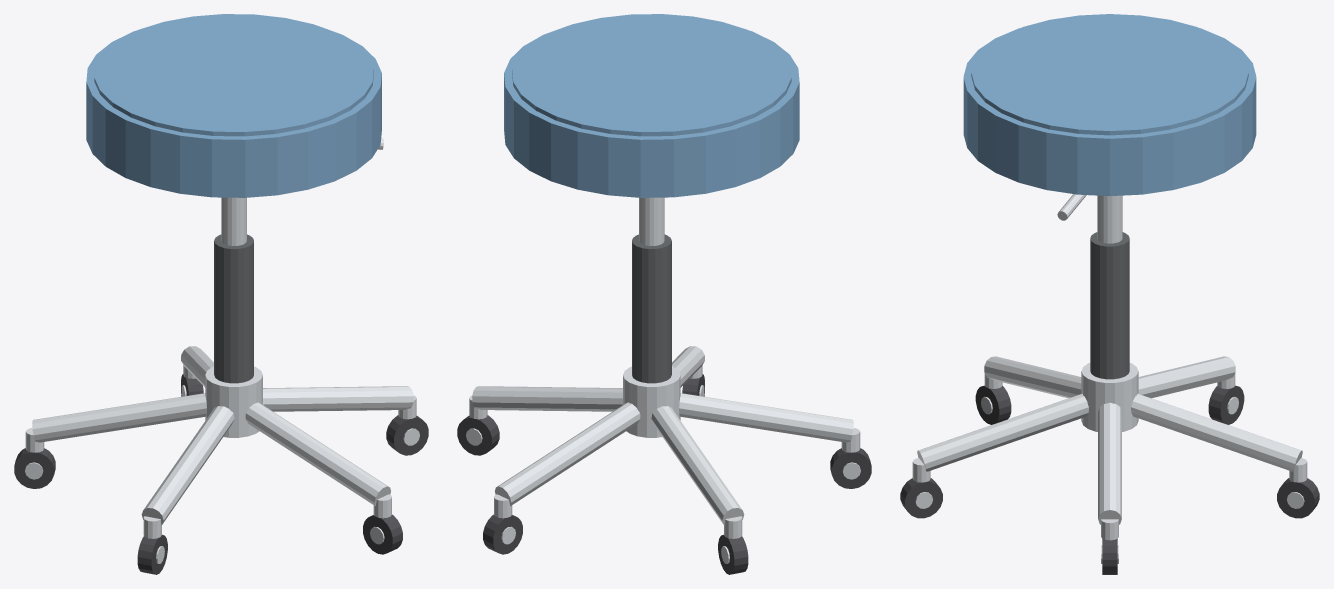
File: chair_v1.fbx
3 views of the same model, side by side, from view 1: azimuth 30°, elevation 25°; view 2: azimuth 150°, elevation 25°; view 3: azimuth 270°, elevation 25° (orthographic).
Parts seen in each view (by area): view 1: 03_SwivelStool_Intact_Mesh; view 2: 03_SwivelStool_Intact_Mesh; view 3: 03_SwivelStool_Intact_Mesh.
Boxes of the visible parts, x1=… form: 03_SwivelStool_Intact_Mesh: x1=14, y1=14, x2=428, y2=574; 03_SwivelStool_Intact_Mesh: x1=457, y1=14, x2=871, y2=574; 03_SwivelStool_Intact_Mesh: x1=900, y1=14, x2=1319, y2=574.
Size of the model in its own units: 50.33 by 58.1 by 52.92.
